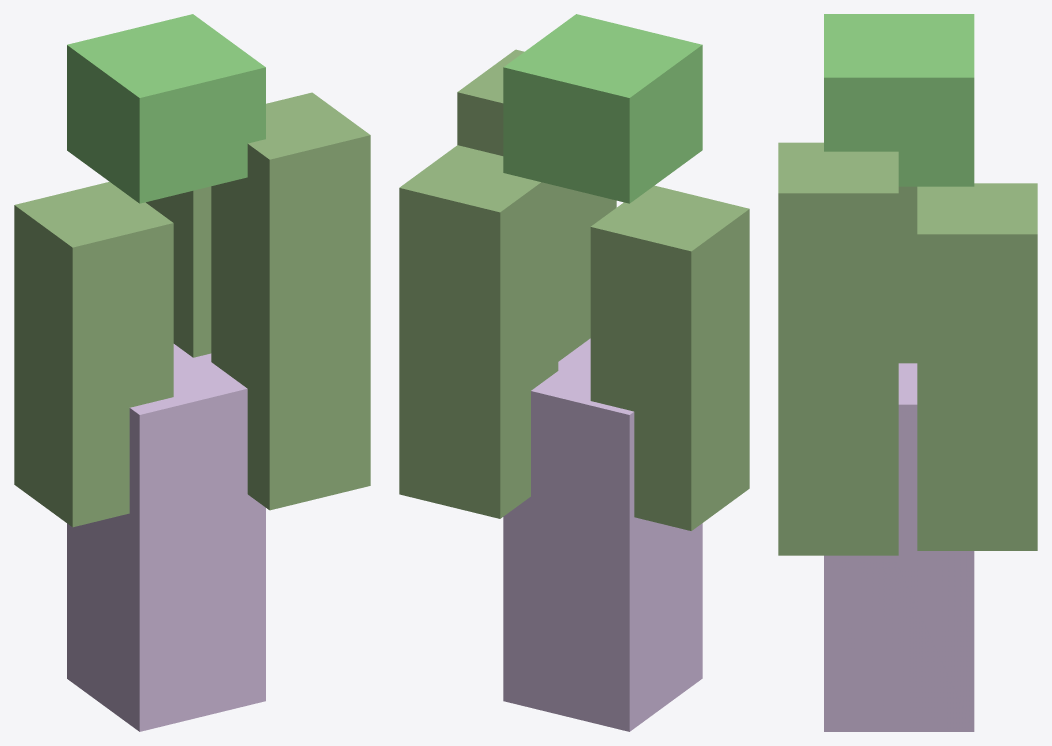
File: Item_Herb_AMF_Furfern_Bundle2.glb
3 views of the same model, side by side, from view 1: azimuth 30°, elevation 25°; view 2: azimuth 150°, elevation 25°; view 3: azimuth 270°, elevation 25° (orthographic). The views are drawn at different scales.
Visible parts, largest first — view 1: Item_Herb_AMF_Furfern_Bundle2; view 2: Item_Herb_AMF_Furfern_Bundle2; view 3: Item_Herb_AMF_Furfern_Bundle2.
Part boxes in pixels (left/top/right/bottom): Item_Herb_AMF_Furfern_Bundle2: left=14, top=14, right=370, bottom=731; Item_Herb_AMF_Furfern_Bundle2: left=399, top=14, right=749, bottom=731; Item_Herb_AMF_Furfern_Bundle2: left=778, top=14, right=1037, bottom=731.
Bounding box in the file's own units: 0.1054 × 0.24 × 0.0862.
